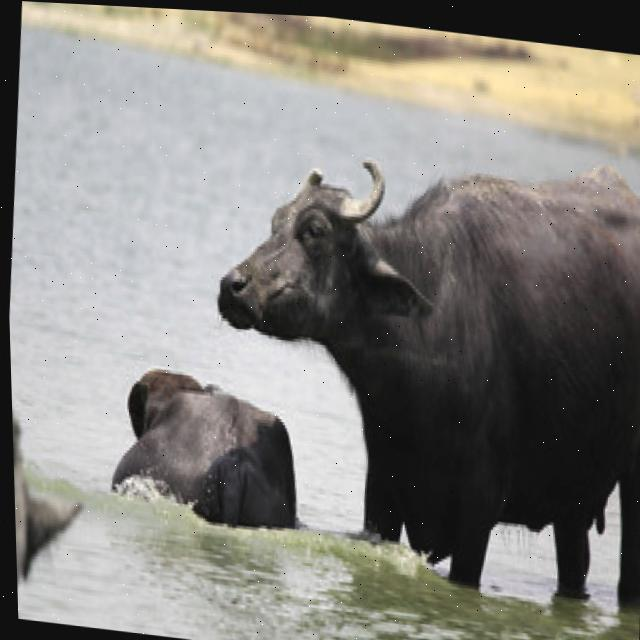Buffalo: (205, 126, 640, 419)
